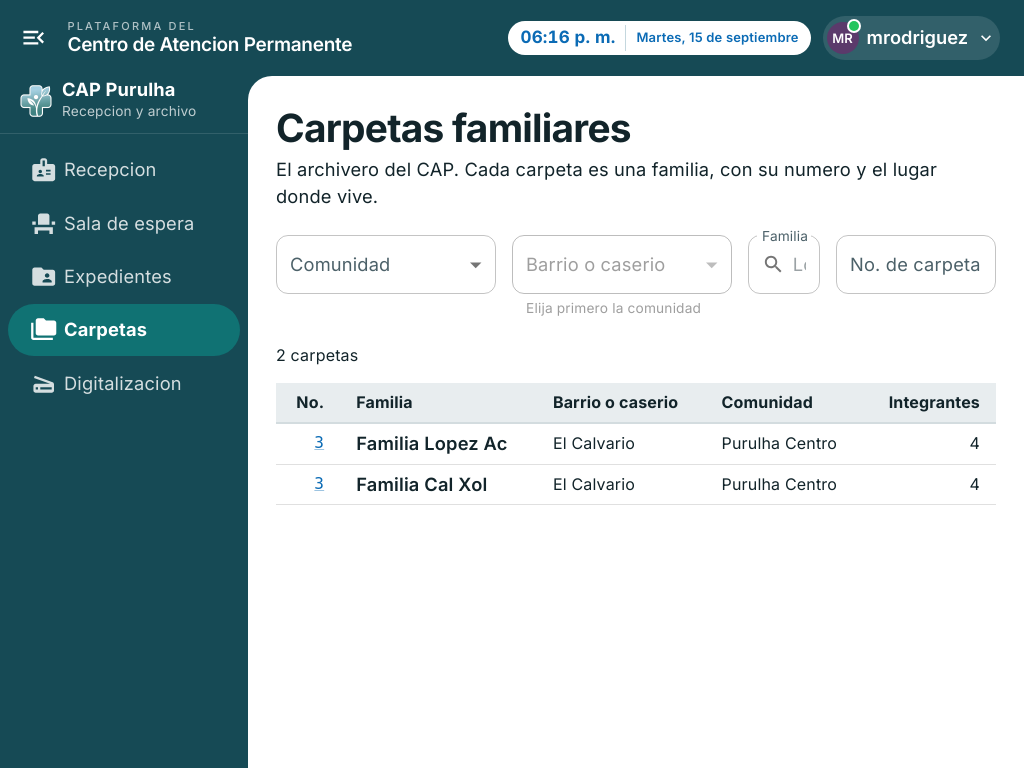
Test: el archivero de carpetas › avisa de que el numero solo no identifica una carpeta
This screenshot has width=1024, height=768.
Expected: the row "3 Familia Lopez Ac El Calvario Purulha Centro 4" is shown, [276,423,996,464]
Step 1. Type "3" into the field labelled "No. de carpeta" → x=916, y=264, box [836,235,996,294]
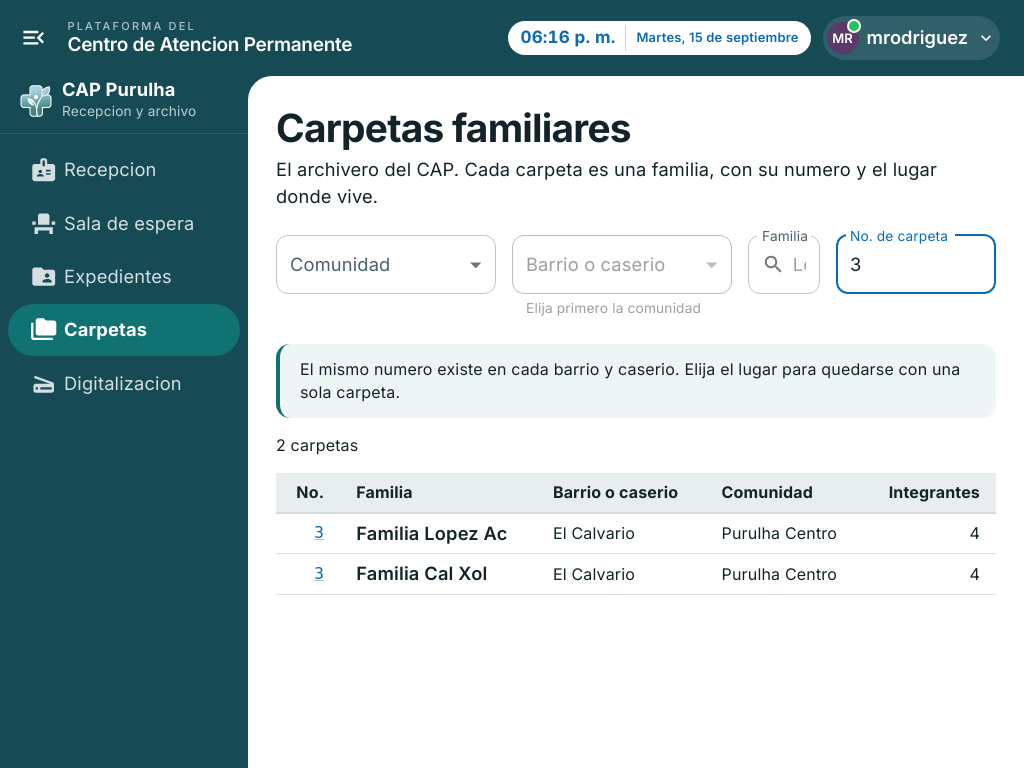
Expected: the text "El mismo numero existe en cada barrio y caserio" is shown, [300,359,960,402]
